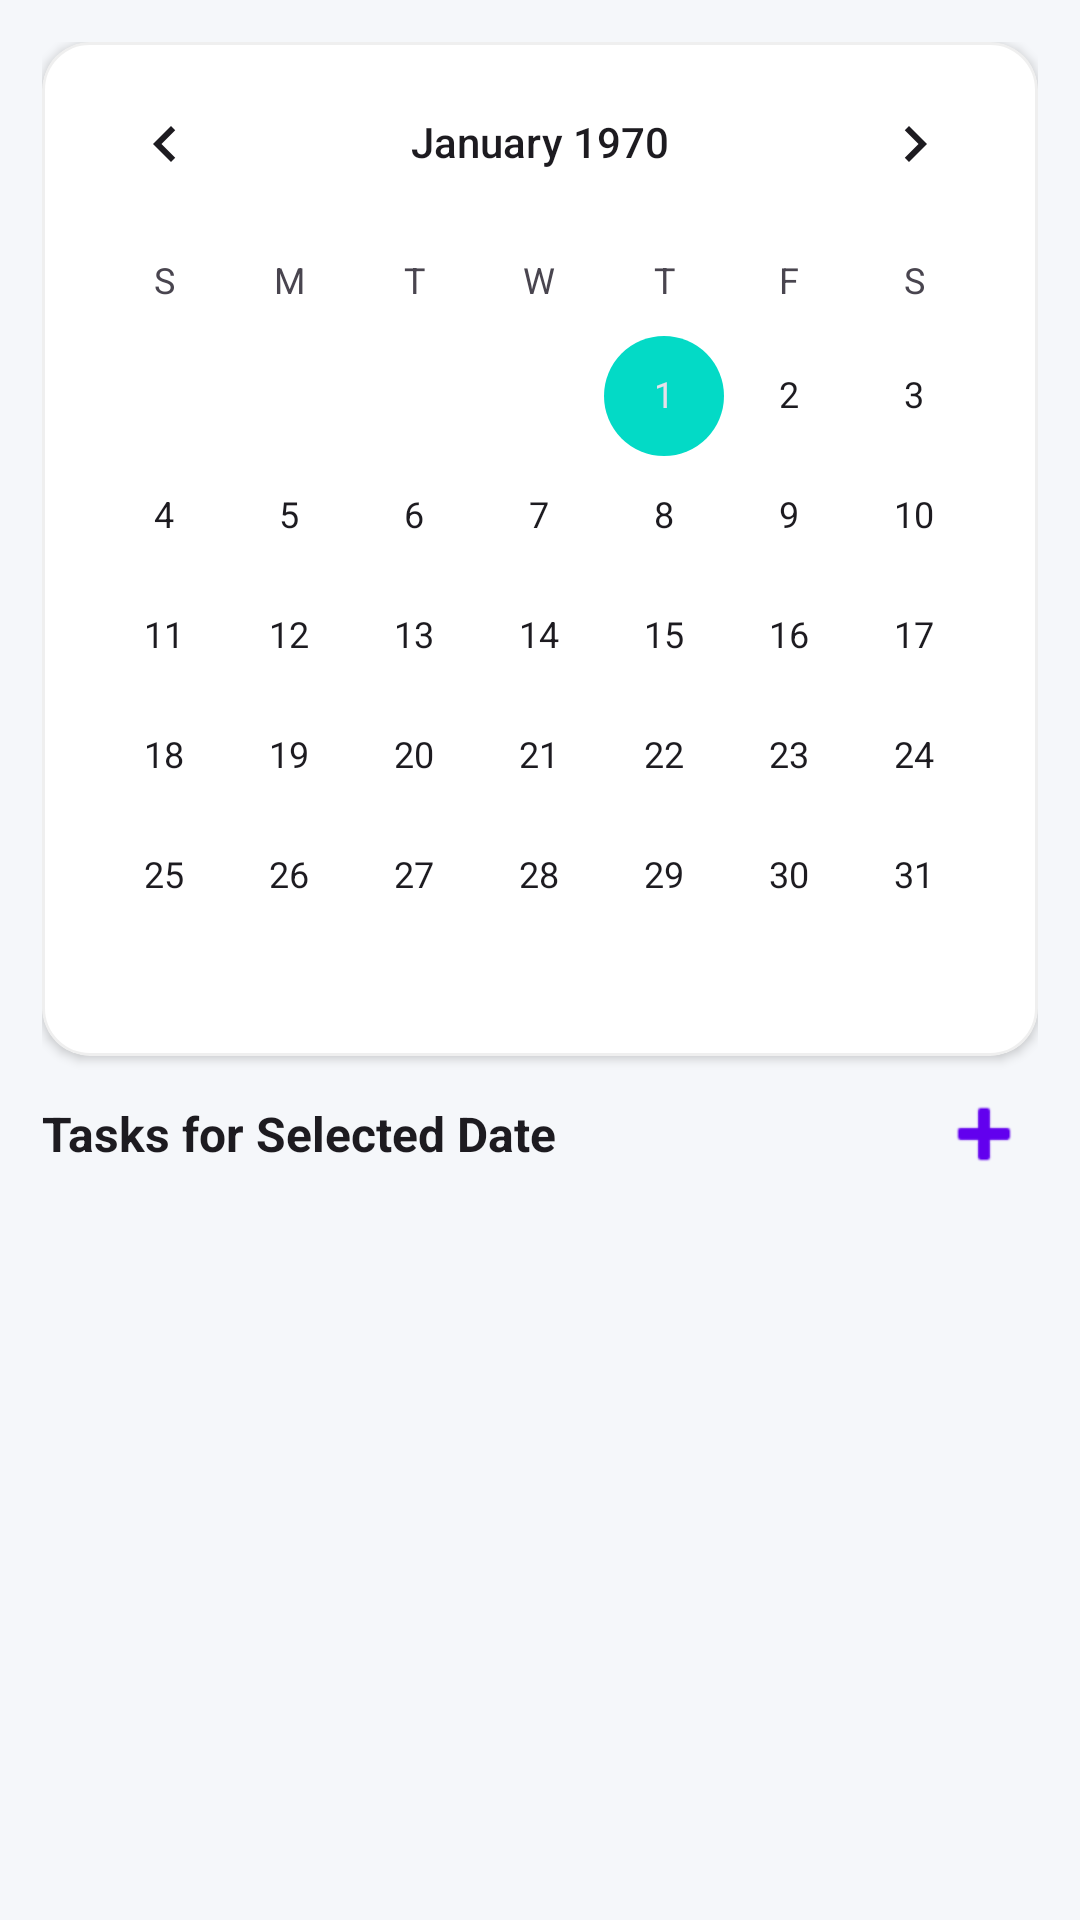

Locate icon controls on the screen. Image size 1080 × 1920, boxes as (x1, y1, x2, y2).
Add task on date: (957, 1107, 1011, 1161)
